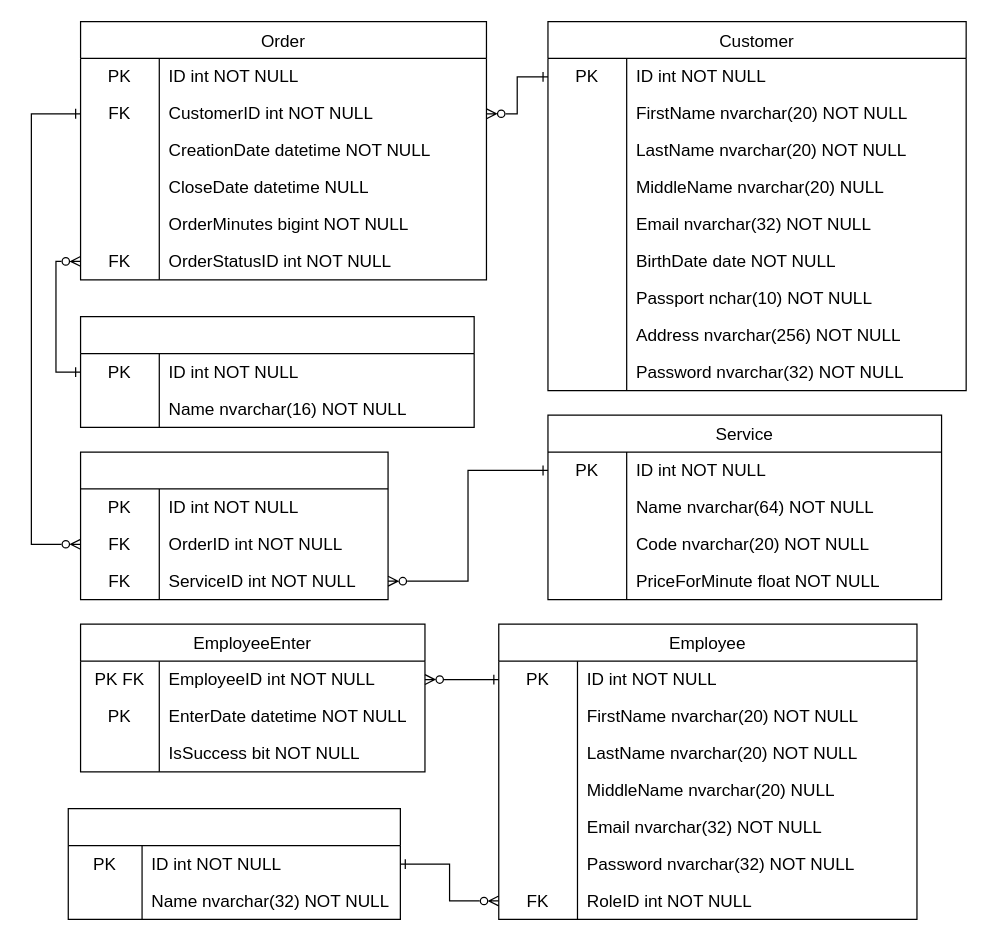
Image size: 988x941. Some labels were removed from this diagram. Here are the shapes that lost their labels. From the top down, the box of each, then its label:
(79, 315, 474, 427): OrderStatus
(79, 451, 388, 600): ServiceByOrder
(67, 807, 400, 919): Role
